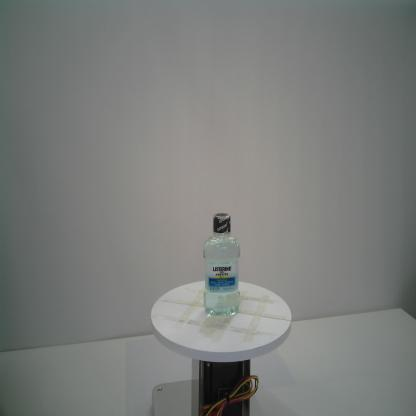Personal Hygiene: (203, 212, 240, 318)
